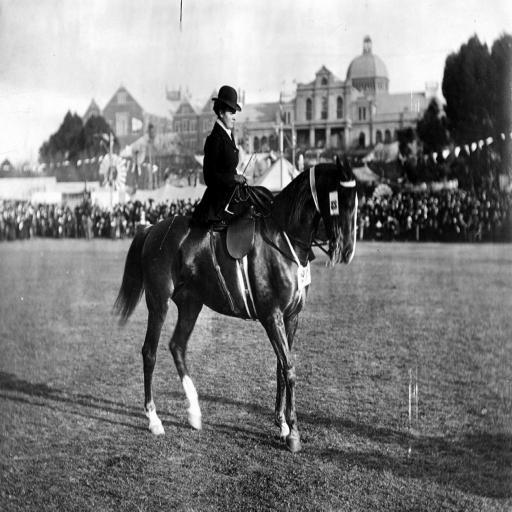Horse: (112, 155, 360, 454)
